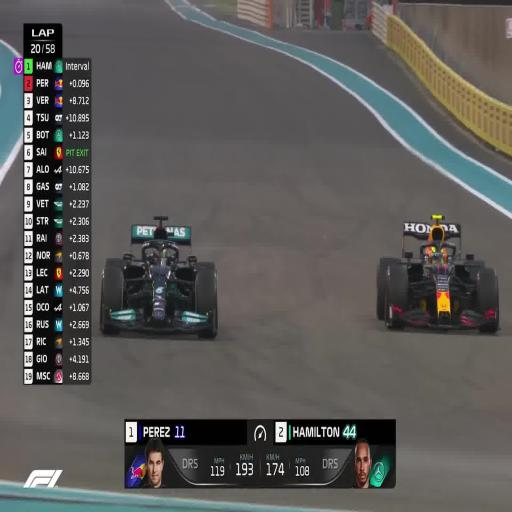f1_car: (100, 216, 218, 338), (377, 215, 499, 332)
